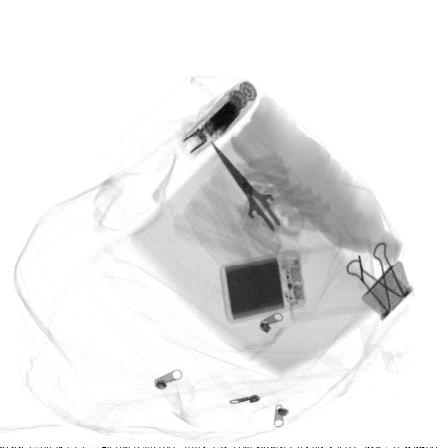Powerbank: (219, 249, 306, 325)
Scissors: (211, 140, 304, 259)
